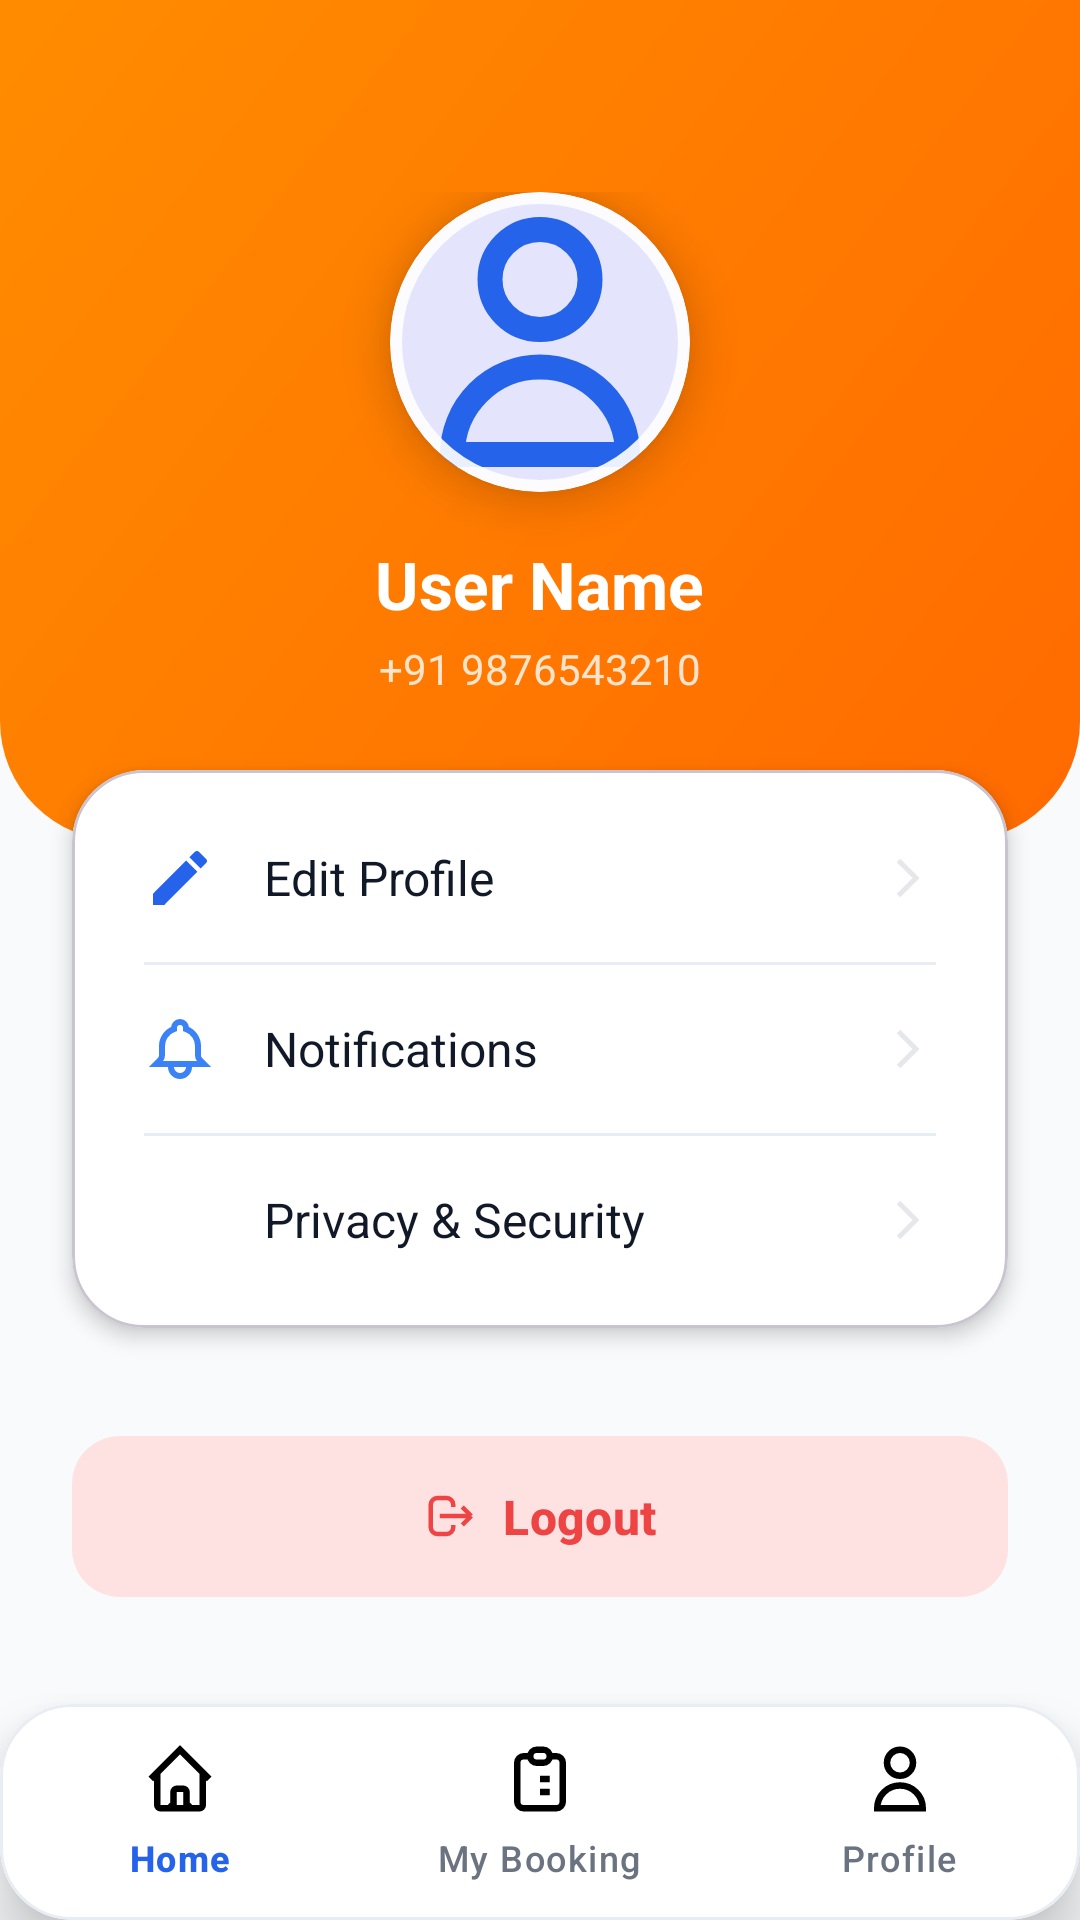

Named icons in this screenshot (1080 x 1920) and their centers, (x=x, y=y):
arrow forward: (x=908, y=878), (x=908, y=1049), (x=908, y=1220)
